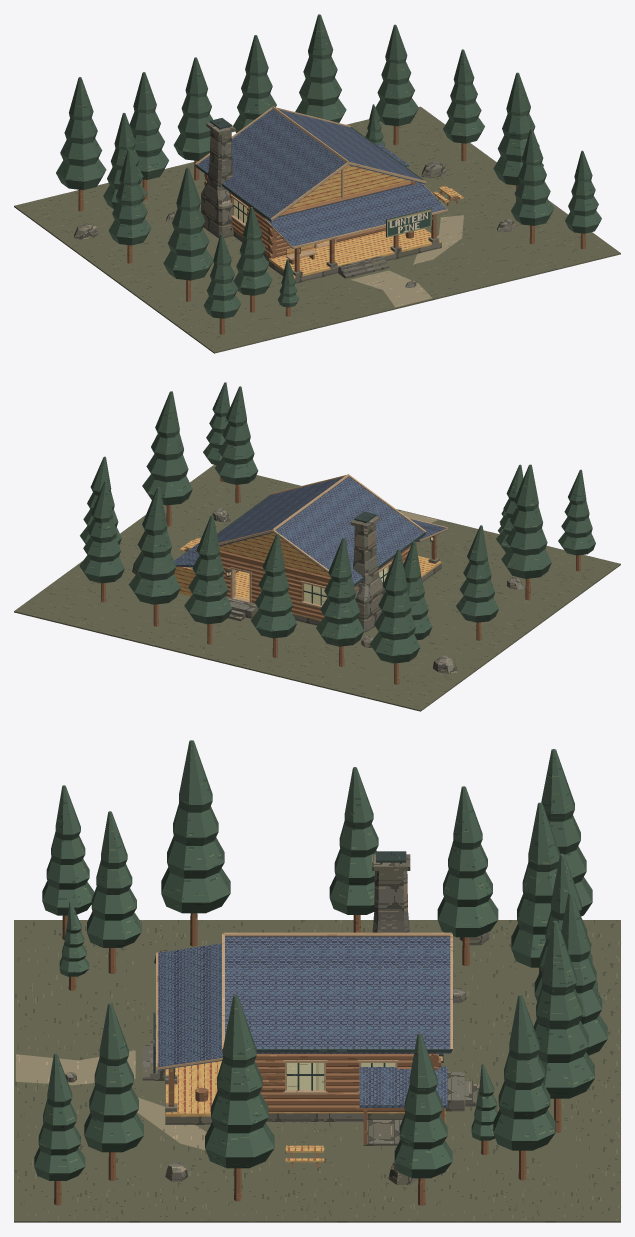
File: lantern-pine-lodge.glb
3 renders of one model, top to bottom at view 1: azimuth 30°, elevation 25°; view 2: azimuth 150°, elevation 25°; view 3: azimuth 270°, elevation 25°, orthographic. The views are drawn at different scales.
Visible parts, largest first — view 1: clearing, roof_main_west, lodge_shell, roof_porch, porch, roof_and_rafters, tree_06, tree_03, tree_10, roof_main_east, tree_11, tree_08 (+12 smaller); view 2: clearing, lodge_shell, roof_main_west, tree_10, tree_03, tree_06, tree_13, roof_and_rafters, tree_09, tree_07, tree_08, tree_11 (+9 smaller); view 3: clearing, roof_main_east, lodge_shell, tree_13, tree_03, roof_porch, tree_10, tree_11, tree_05, tree_14, tree_12, tree_04 (+13 smaller).
Part boxes in pixels (x1,y1,x2,y2): clearing: (14, 106, 620, 353); roof_main_west: (196, 109, 347, 221); lodge_shell: (201, 118, 416, 261); roof_porch: (265, 182, 446, 248); porch: (268, 208, 441, 283); roof_and_rafters: (195, 106, 447, 248); tree_06: (56, 77, 106, 211); tree_03: (163, 167, 213, 301); tree_10: (295, 14, 346, 122); roof_main_east: (278, 109, 425, 184); tree_11: (375, 24, 418, 145); tree_08: (173, 57, 213, 180); clearing: (14, 464, 620, 711); lodge_shell: (220, 511, 416, 632); roof_main_west: (274, 477, 424, 586); tree_10: (128, 487, 180, 626); tree_03: (501, 464, 551, 600); tree_06: (370, 549, 420, 684); tree_13: (142, 391, 192, 526); roof_and_rafters: (195, 474, 447, 586); tree_09: (184, 515, 232, 644); tree_07: (316, 537, 363, 666); tree_08: (250, 533, 296, 657); tree_11: (79, 480, 124, 602); clearing: (14, 920, 620, 1222); roof_main_east: (225, 936, 450, 1053); lodge_shell: (255, 851, 479, 1121); tree_13: (205, 995, 274, 1201); tree_03: (161, 740, 230, 946); roof_porch: (158, 943, 222, 1070); tree_10: (533, 920, 594, 1132); tree_11: (493, 995, 555, 1180); tree_05: (437, 786, 498, 965); tree_14: (84, 1003, 143, 1180); tree_12: (394, 1033, 452, 1205); tree_04: (329, 767, 378, 932).
Size of what is drawn, in the model's own units: 34 by 11.08 by 29.
Materials: 12 (12 with a texture image).
